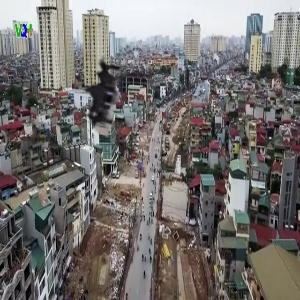drone: (57, 44, 158, 145)
